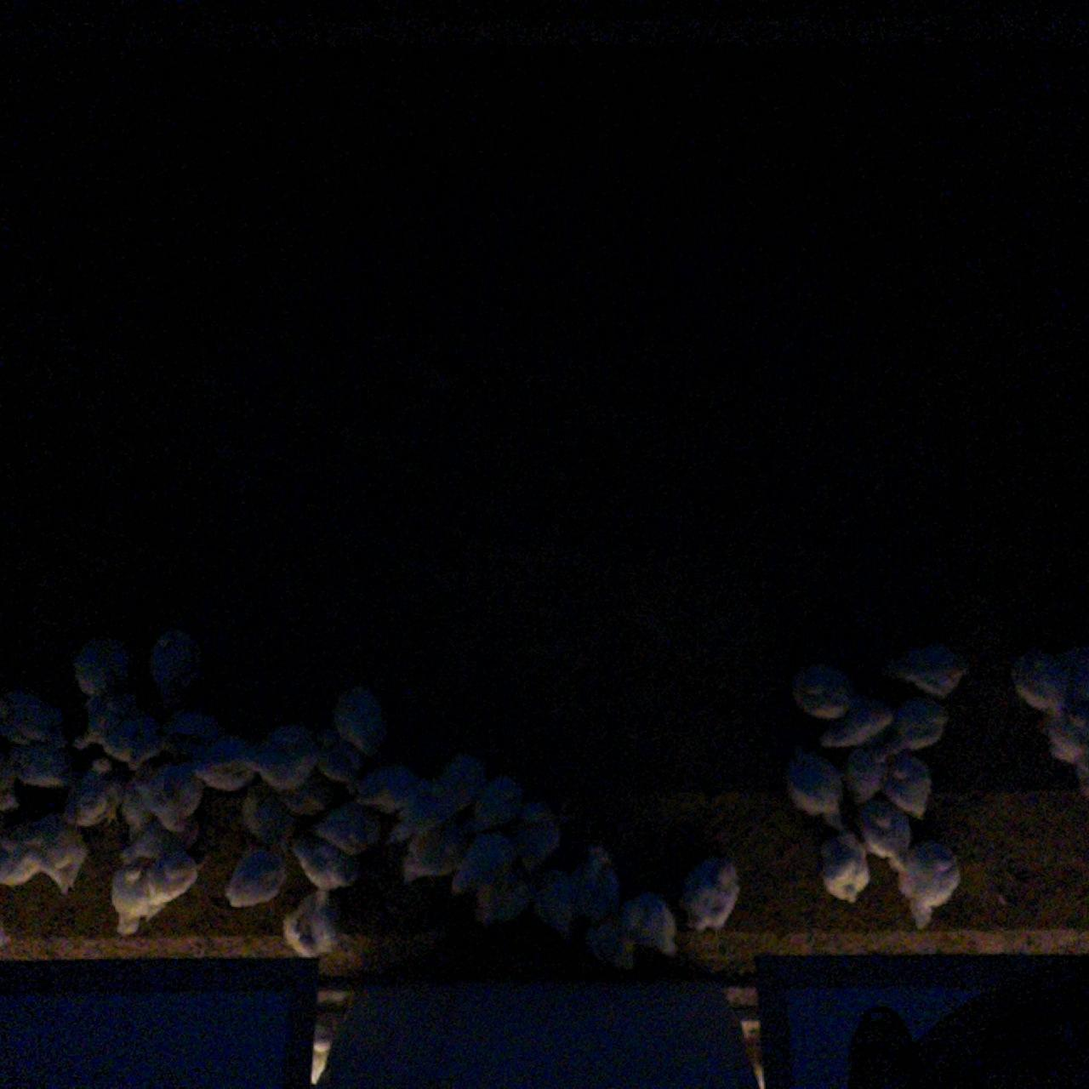chicken: (109, 850, 199, 943), (997, 640, 1089, 721), (11, 805, 88, 896), (877, 633, 970, 706), (895, 835, 965, 930), (676, 848, 744, 939), (238, 720, 324, 791), (781, 737, 847, 827), (852, 792, 917, 879), (58, 752, 128, 831), (813, 812, 871, 907), (398, 825, 477, 894), (329, 680, 395, 760), (813, 696, 898, 758), (875, 693, 949, 762), (448, 831, 519, 902), (878, 750, 940, 830), (309, 796, 386, 860), (281, 882, 343, 961), (618, 889, 686, 961), (148, 625, 211, 702), (190, 734, 270, 794), (386, 780, 455, 849), (471, 865, 542, 932), (223, 845, 294, 911), (569, 839, 625, 922), (72, 631, 137, 702), (116, 815, 201, 869), (784, 661, 857, 722), (509, 794, 566, 872), (291, 833, 365, 892), (239, 775, 300, 844), (70, 691, 138, 752), (0, 684, 65, 747), (156, 705, 229, 761), (469, 772, 529, 838), (353, 760, 422, 817), (585, 911, 642, 977), (838, 739, 891, 809), (536, 865, 583, 941), (272, 771, 340, 822), (438, 750, 491, 815), (1035, 707, 1089, 770), (11, 740, 74, 793), (101, 707, 157, 766), (312, 727, 365, 776), (0, 840, 43, 888), (0, 748, 21, 813), (241, 768, 275, 778)
